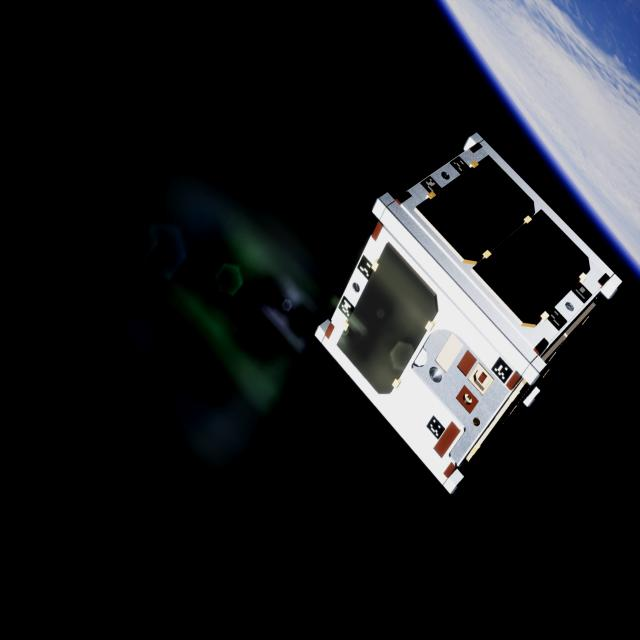medium_debris: (314, 134, 622, 502)
